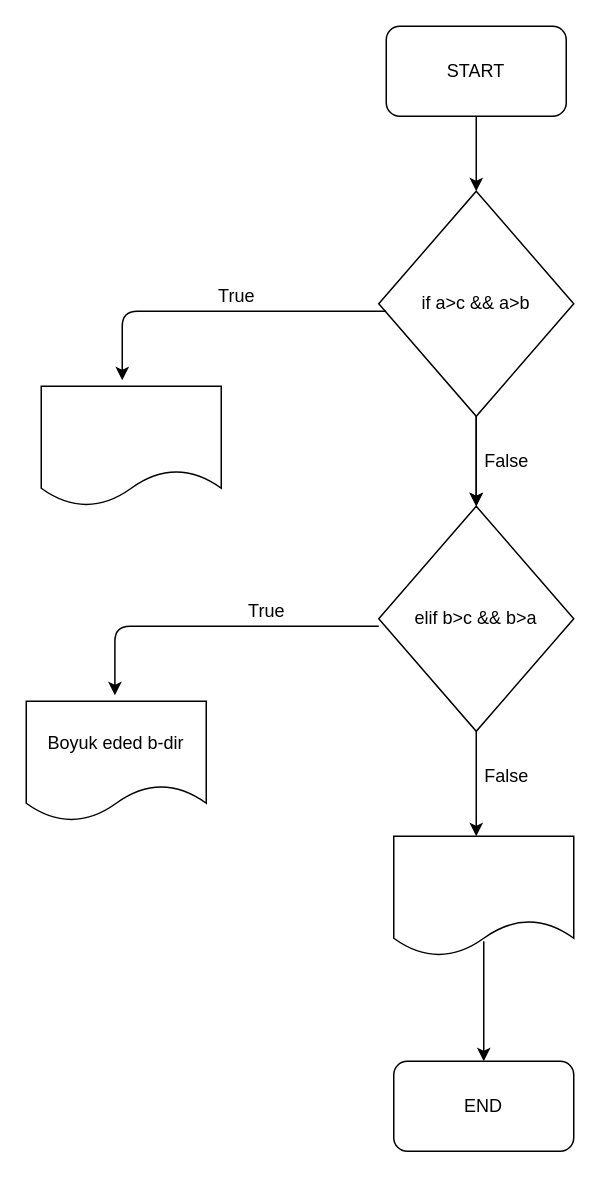
This 600x1178 diagram has some shape labels left out. Here are the shapes that lost their labels. From the top down, the box of each, then its label:
(40, 385, 221, 506): Boyuk eded a-dir
(392, 835, 574, 956): Boyuk eded c-dir
